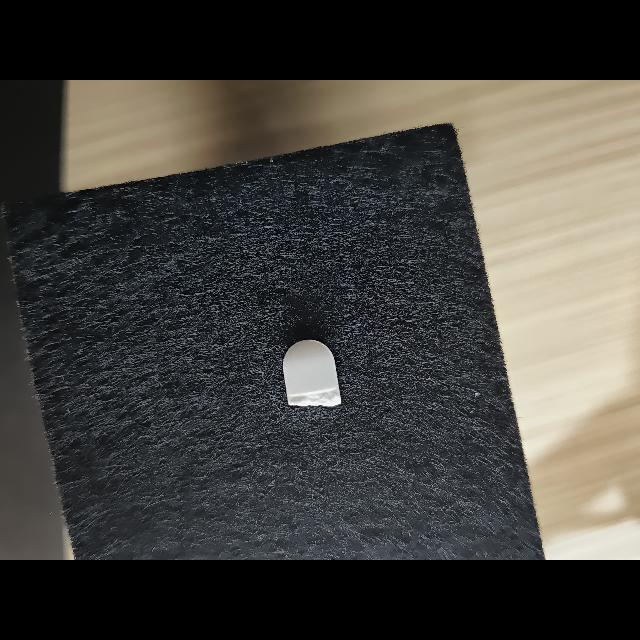Chipped Pill: (283, 339, 341, 407)
